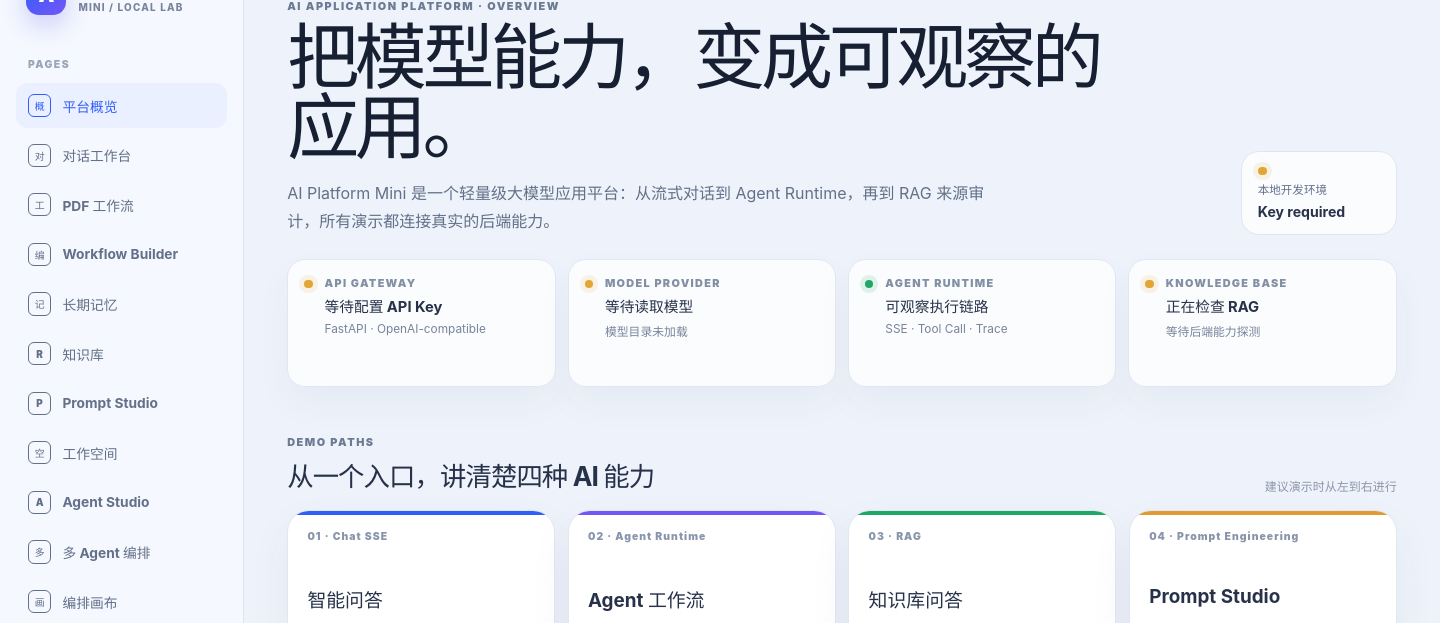
Test: App › shows the Agent retry action when an Agent network request fails
Click the button "对 对话工作台". click: {"x": 122, "y": 155}
box: [16,133,227,178]
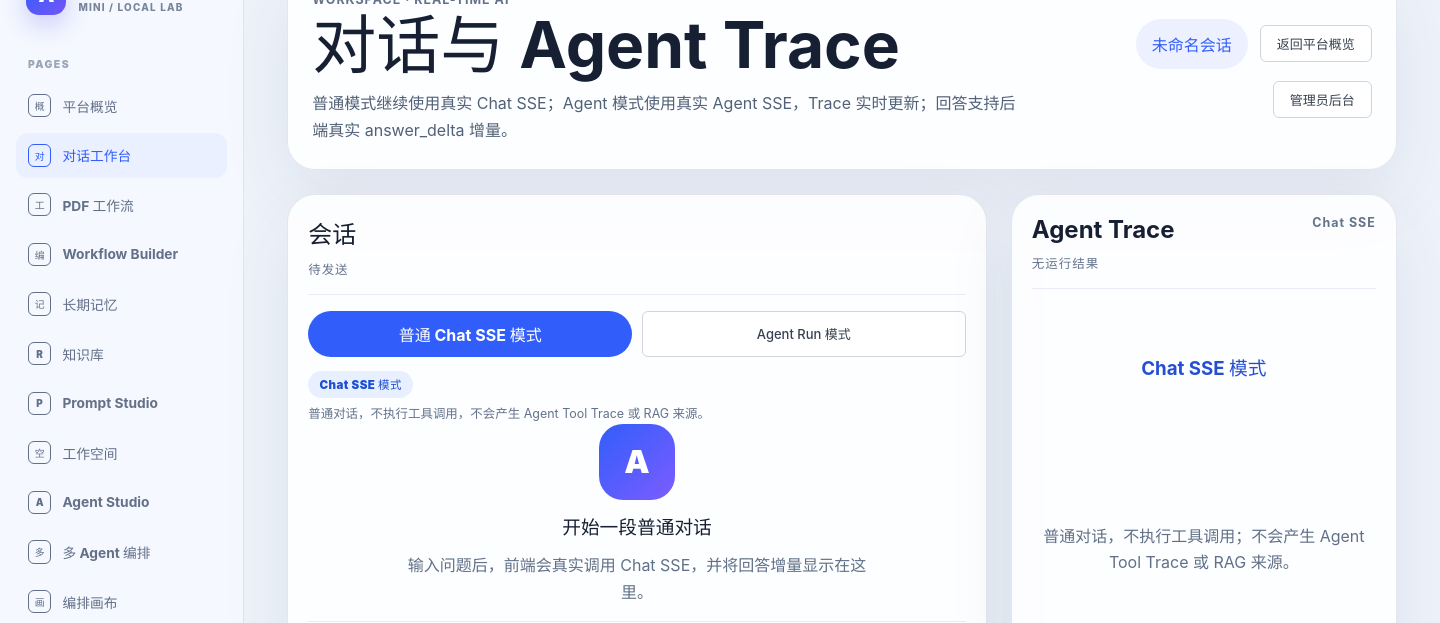
Click the button "Agent Run 模式". click: {"x": 804, "y": 334}
box: [642,311,966,357]
(page scrolled)
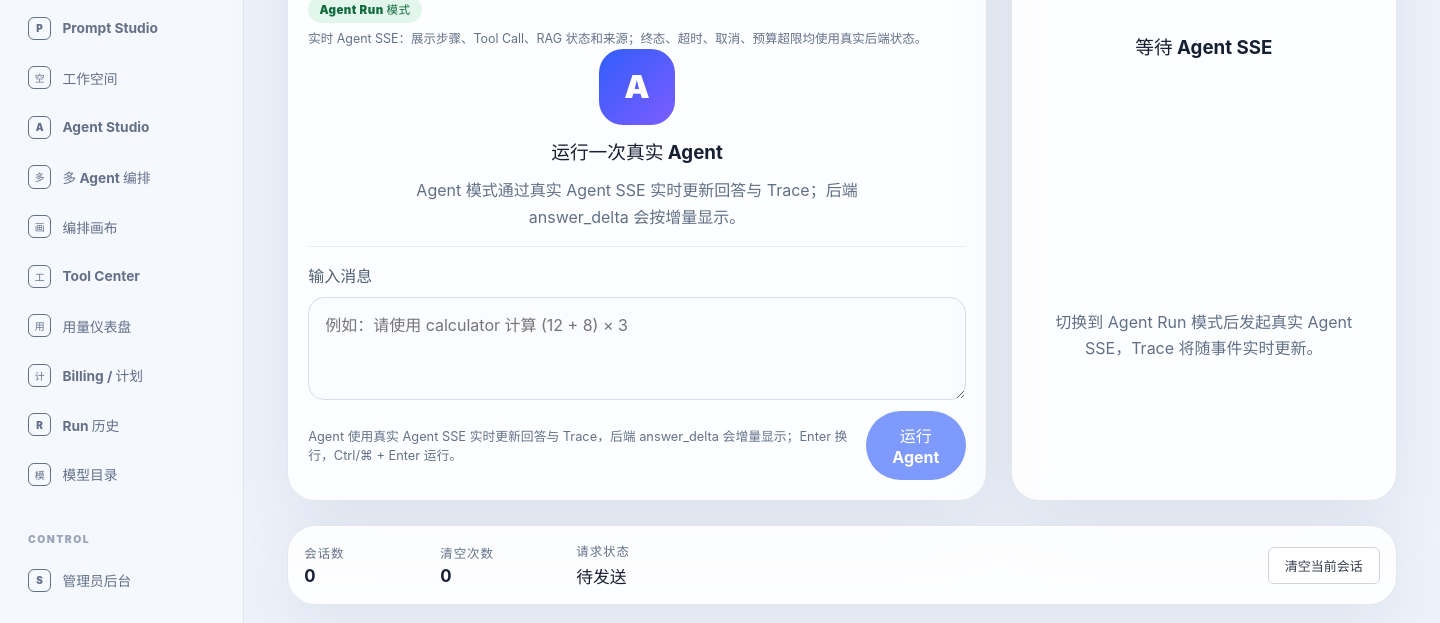
Type "网络失败" into the text box labelled "输入消息". click: {"x": 637, "y": 349}
box: [308,297,966,400]
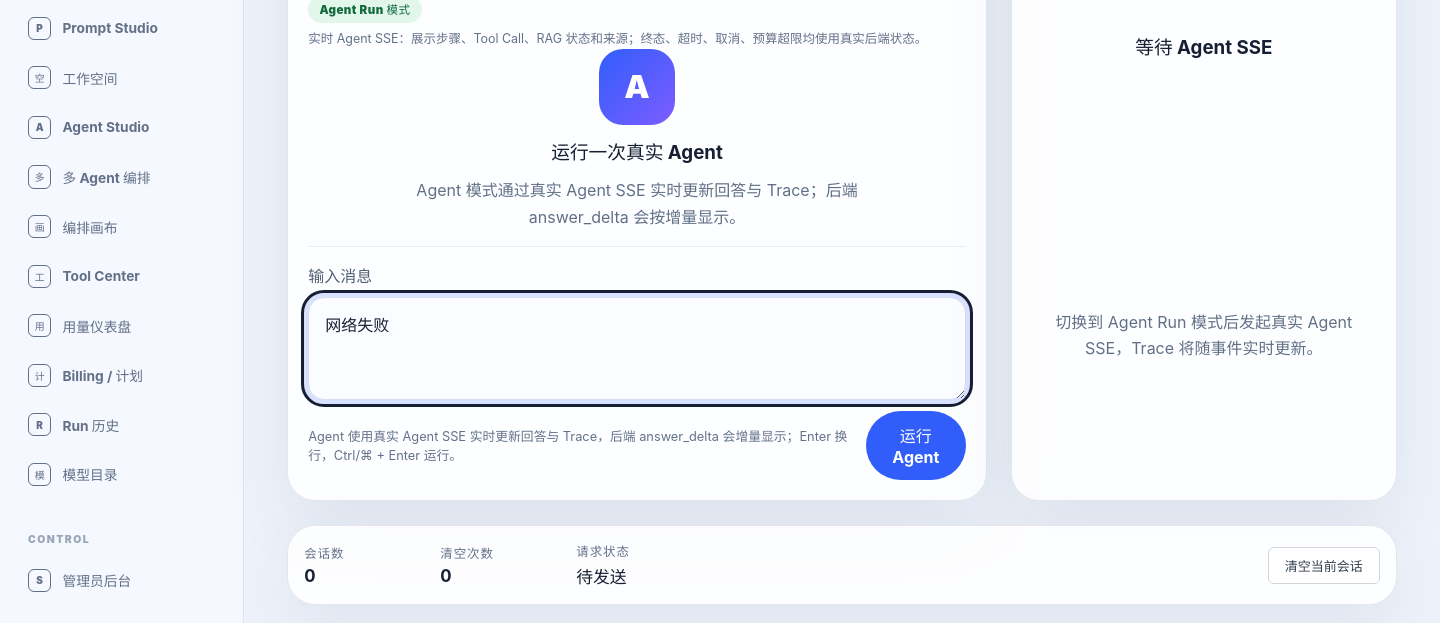
Click the button "运行 Agent". click: {"x": 916, "y": 445}
box: [866,411,966,480]
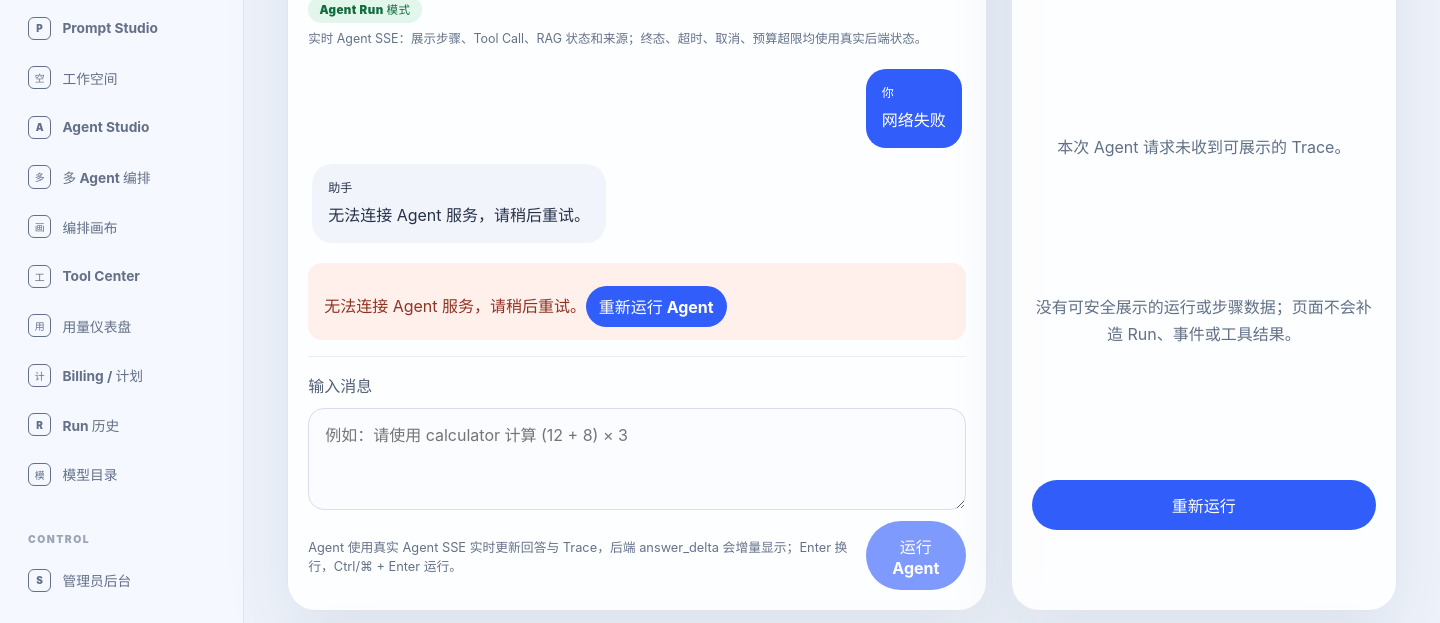
Check: the message shows "无法连接 Agent 服务，请稍后重试。", box [324,296,586,316]
Check: the button "重新运行 Agent" is shown, box [586,286,726,327]
